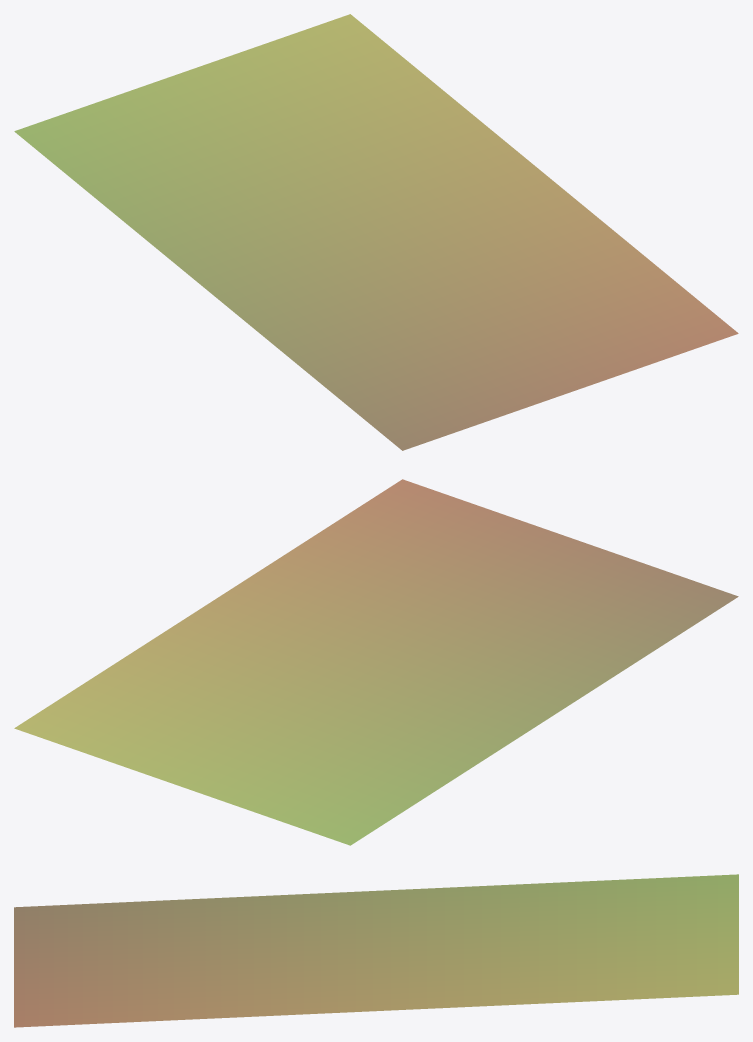
Rendered from east.gltf.
The picture shows the model from 3 angles, top to bottom: view 1: azimuth 30°, elevation 25°; view 2: azimuth 150°, elevation 25°; view 3: azimuth 270°, elevation 25°; orthographic projection. The views are drawn at different scales.
Bounding box in the file's own units: 100 × 20 × 200.
